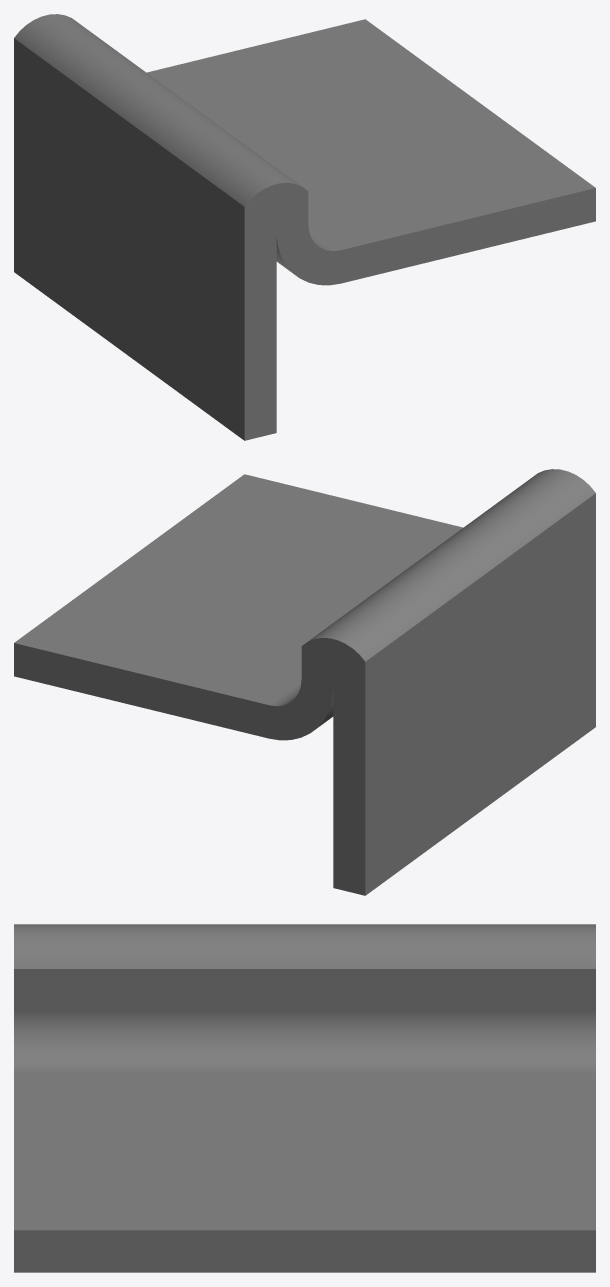
The picture shows the model from 3 angles, top to bottom: view 1: azimuth 30°, elevation 25°; view 2: azimuth 150°, elevation 25°; view 3: azimuth 270°, elevation 25°; orthographic projection. The views are drawn at different scales.
Visible parts, largest first — view 1: mesh_id4, mesh_id5; view 2: mesh_id4, mesh_id5; view 3: mesh_id4, mesh_id5.
Part boxes in pixels (bbox=[...]): mesh_id4: bbox=[14, 19, 595, 440]; mesh_id5: bbox=[14, 14, 308, 232]; mesh_id4: bbox=[14, 474, 595, 895]; mesh_id5: bbox=[301, 469, 595, 687]; mesh_id4: bbox=[14, 969, 595, 1272]; mesh_id5: bbox=[14, 924, 595, 968].
Bounding box in the file's own units: 0.512 × 0.3465 × 0.5818.
2 materials, 2 textured.
